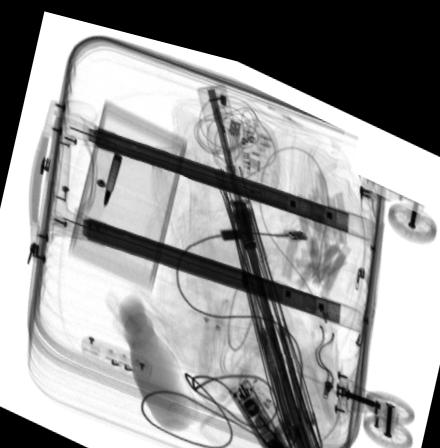Bullet: (102, 145, 122, 201)
